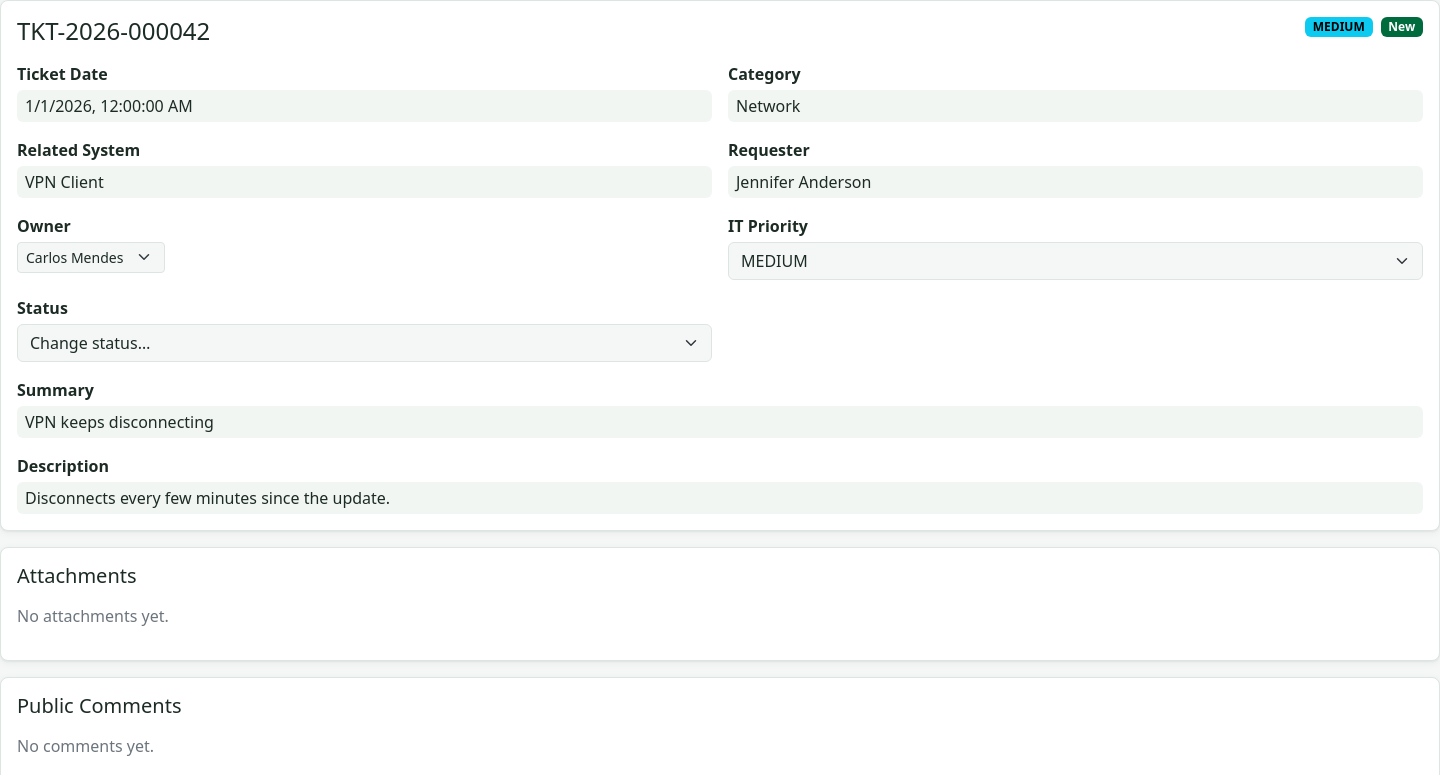
Scenario: StaffTicketDetail › reassigns to a different active staff member via the dropdown
The image size is (1440, 775).
Select "Priya Natarajan" in the dropdown named "reassign to" at [91, 257], box top-left (17, 242), bottom-right (165, 273)
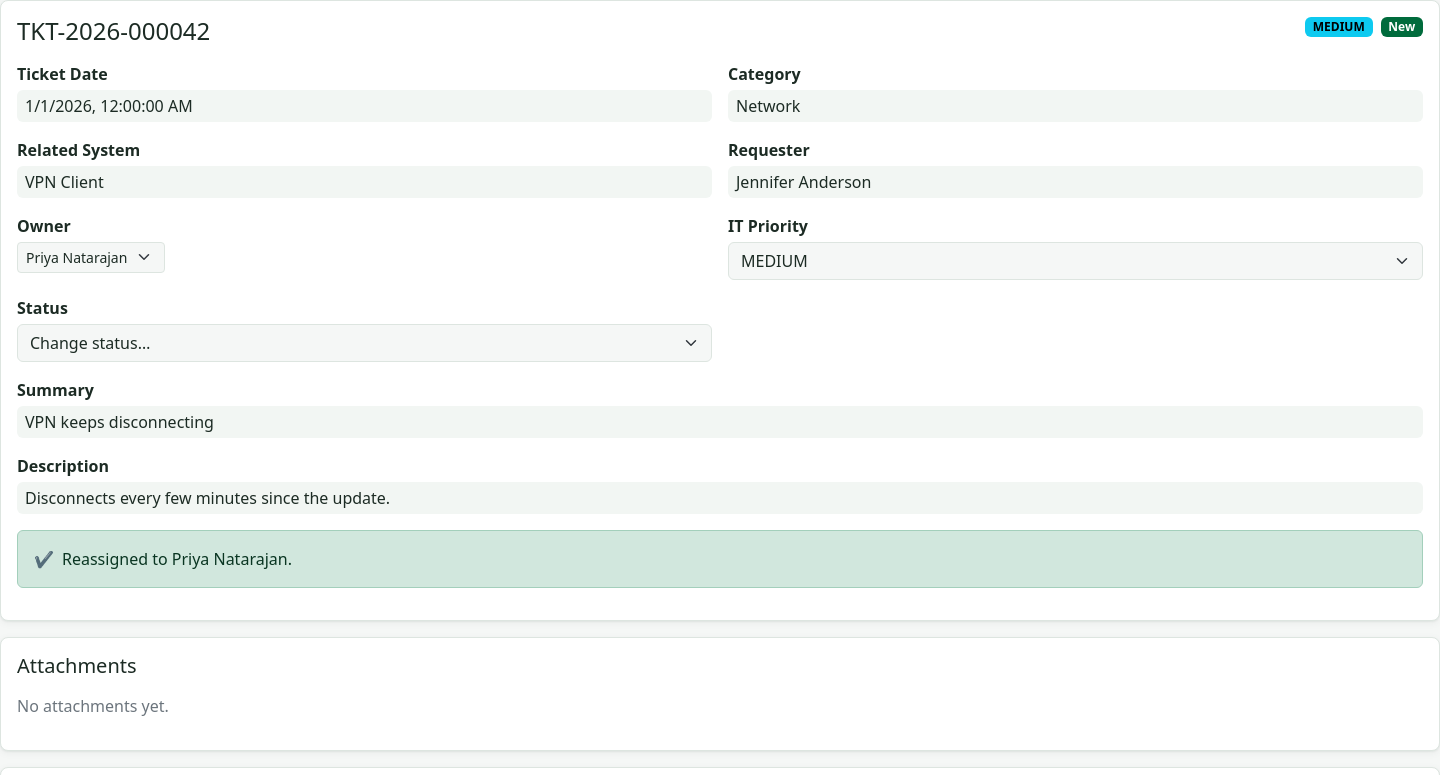
Check: the text "Reassigned to Priya Natarajan." is shown, box top-left (62, 547), bottom-right (292, 571)
